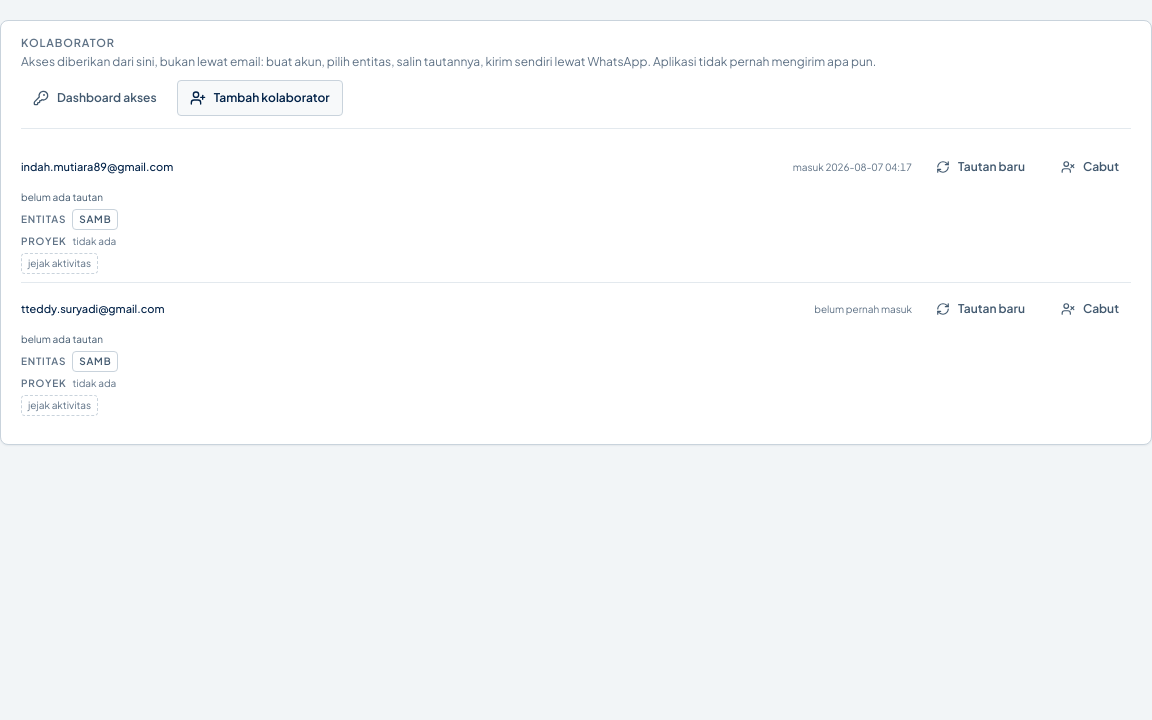
a read that genuinely failed is not an empty trail › says the list may be incomplete, and names the condition
Expected: the text "indah.mutiara89@gmail.com" is shown, [21,160,173,173]
Click the button "jejak aktivitas" below "indah.mutiara89@gmail.com".
click(60, 264)  # box [21,253,98,274]
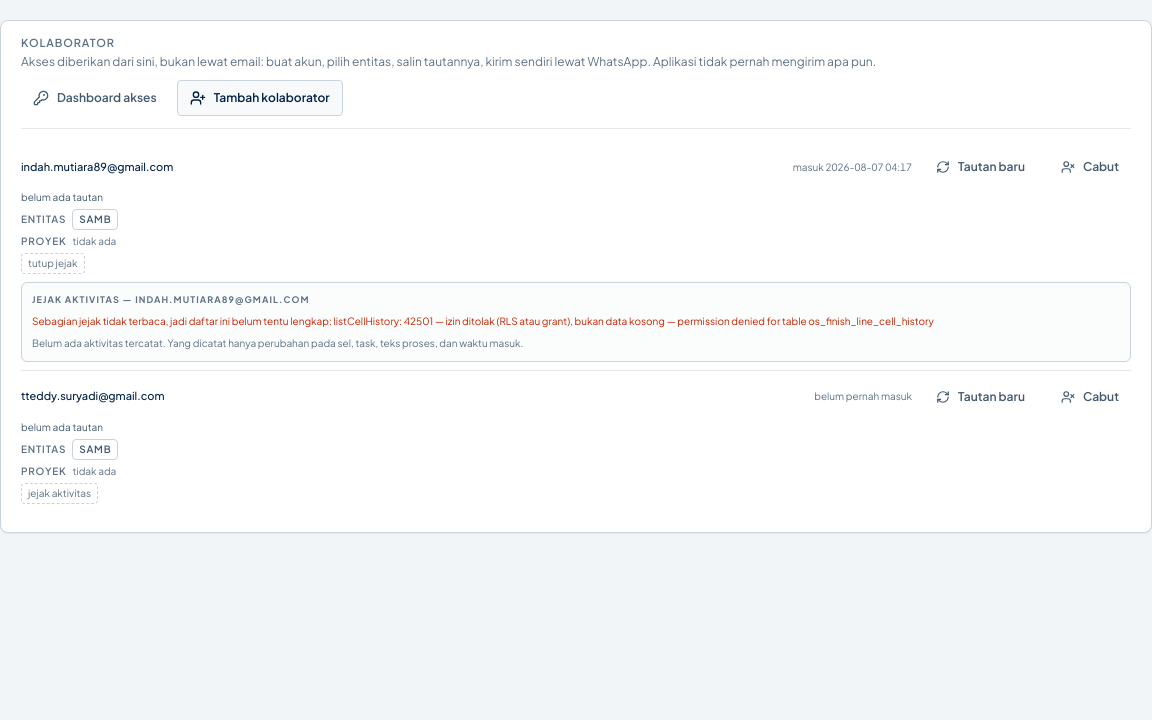
Now the text "belum tentu lengkap" shows "42501", box [334,314,934,326]
